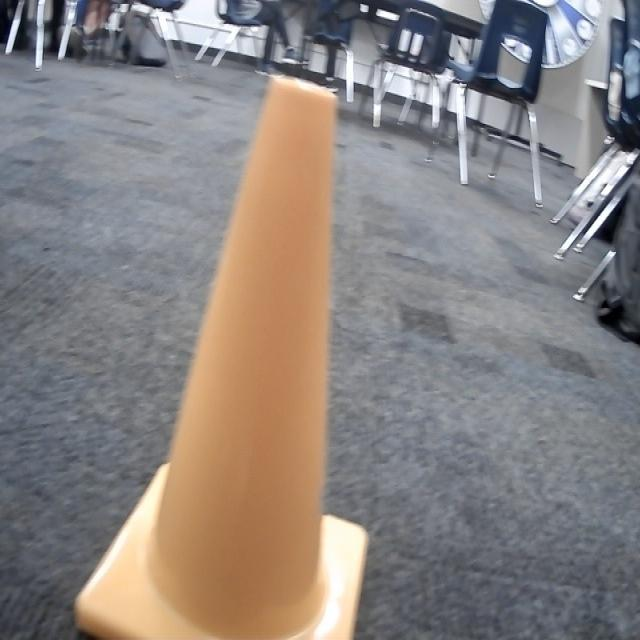cone: (69, 56, 374, 640)
